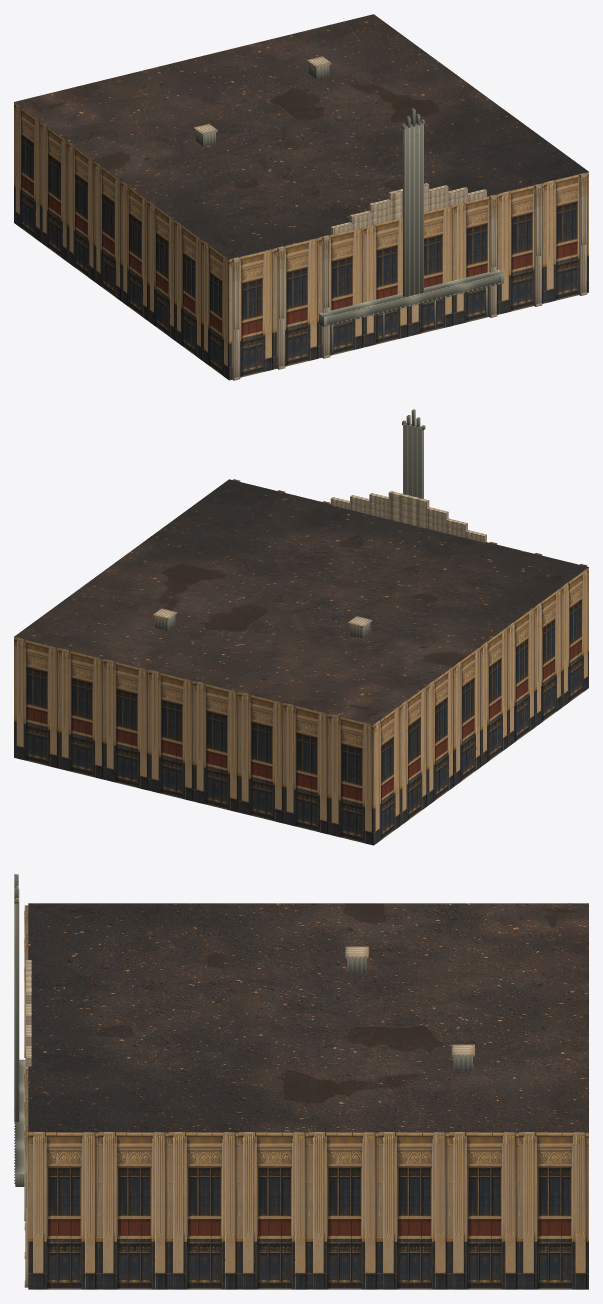
The model's file is LM_Pantages.fbx.
3 views of the same model, one above another, from view 1: azimuth 30°, elevation 25°; view 2: azimuth 150°, elevation 25°; view 3: azimuth 270°, elevation 25° (orthographic). The views are drawn at different scales.
Parts seen in each view (by area): view 1: LM_Pantages; view 2: LM_Pantages; view 3: LM_Pantages.
Boxes of the visible parts, x1=… form: LM_Pantages: x1=14, y1=14, x2=588, y2=380; LM_Pantages: x1=14, y1=409, x2=588, y2=845; LM_Pantages: x1=14, y1=874, x2=588, y2=1289.
Size of the model in its own units: 56 by 59.49 by 34.3.
1 material, 1 textured.
